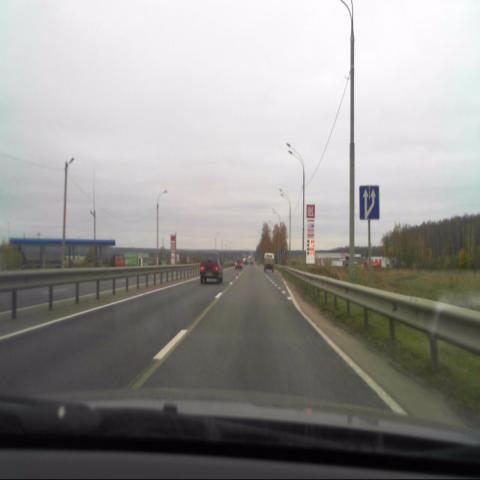5_15_3: (359, 185, 380, 221)
